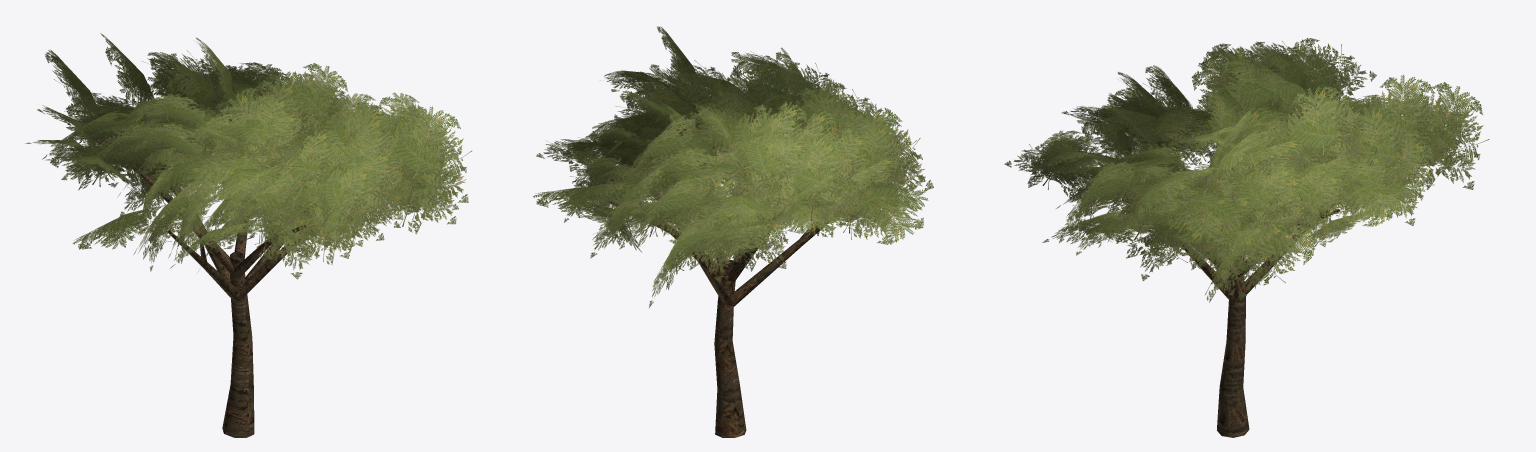
Rendered from arvore_jacaranda.glb.
3 renders of one model, left to right at view 1: azimuth 30°, elevation 25°; view 2: azimuth 150°, elevation 25°; view 3: azimuth 270°, elevation 25°, orthographic. The views are drawn at different scales.
Parts seen in each view (by area): view 1: Folhas, Tronco; view 2: Folhas, Tronco; view 3: Folhas, Tronco.
Boxes of the visible parts, bbox=[...] form: Folhas: bbox=[25, 33, 471, 279]; Tronco: bbox=[102, 135, 307, 437]; Folhas: bbox=[533, 26, 933, 307]; Tronco: bbox=[609, 188, 834, 437]; Folhas: bbox=[1004, 38, 1489, 302]; Tronco: bbox=[1098, 162, 1339, 437].
Bounding box in the file's own units: 8.26 × 7.03 × 9.44.
Materials: 2 (2 with a texture image).
